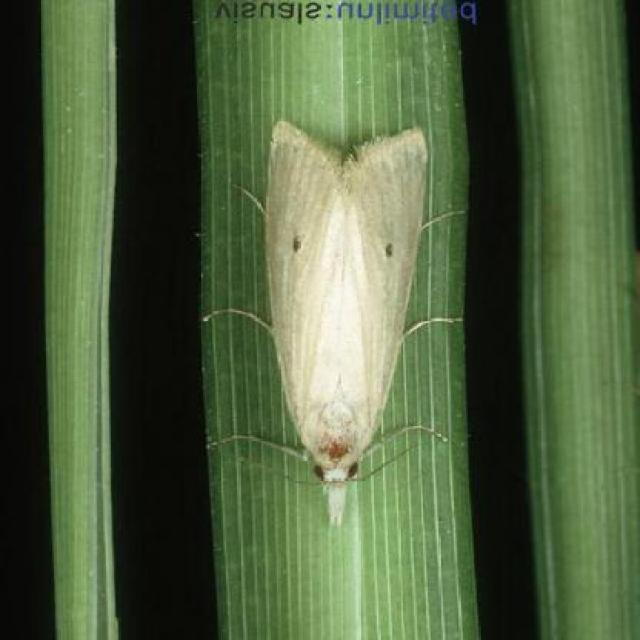stem-borer: (230, 115, 438, 537)
